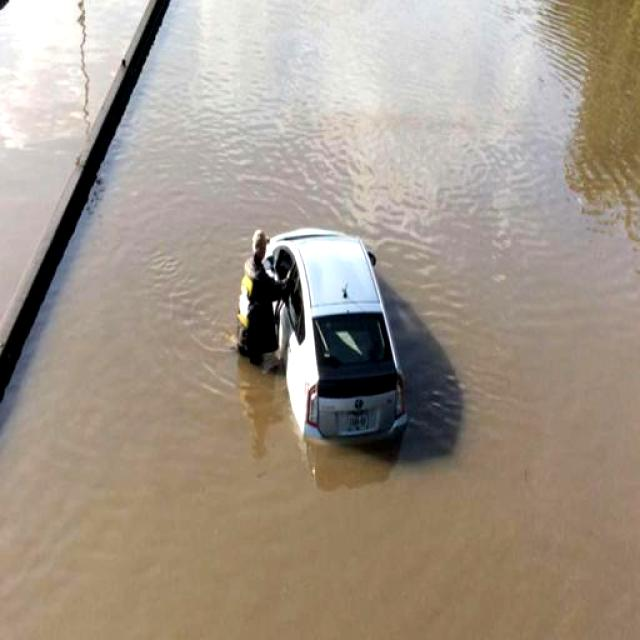civilian: (219, 213, 301, 384)
